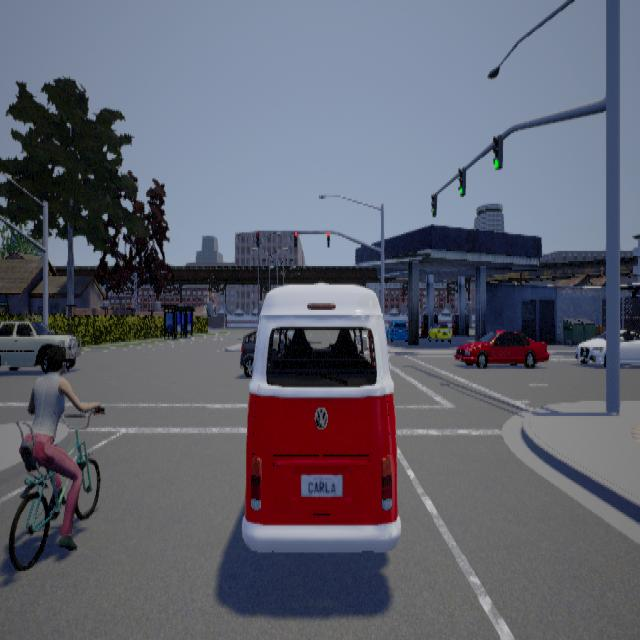bike: (4, 342, 109, 569)
green_light: (492, 133, 502, 168), (457, 165, 465, 195), (430, 192, 436, 216)
red_light: (255, 229, 259, 246), (326, 229, 329, 246), (293, 229, 296, 246)
vehicle: (239, 281, 407, 551), (0, 317, 80, 372), (453, 329, 549, 367), (574, 327, 639, 365)
